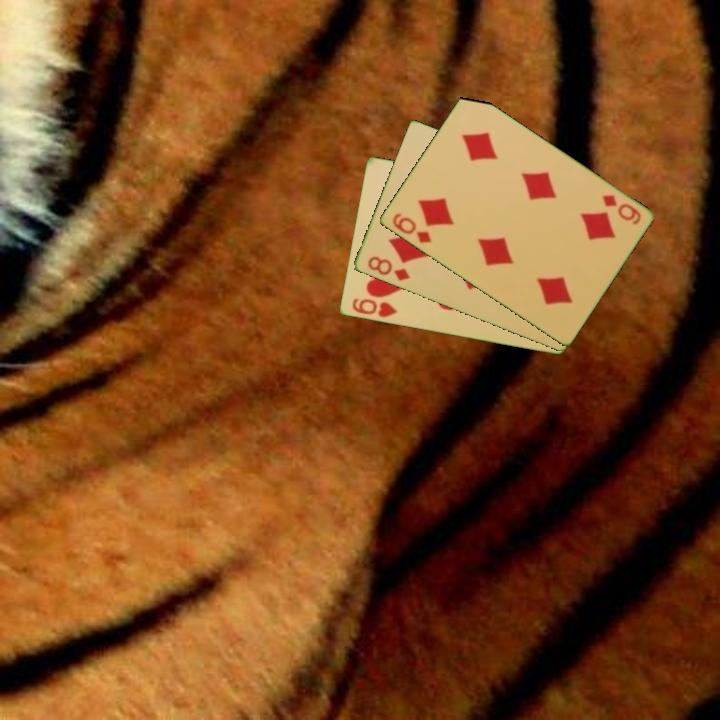6d: (598, 191, 644, 228), (388, 210, 434, 246)
6h: (348, 295, 400, 320)
8d: (364, 253, 413, 284)
